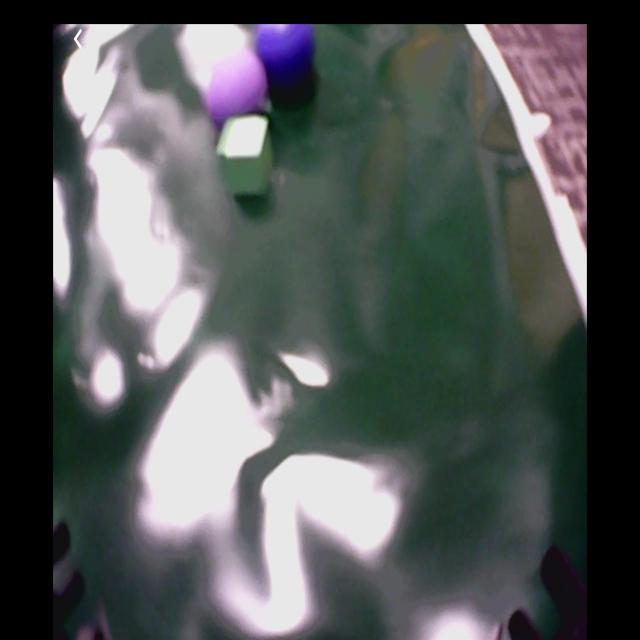ball: (209, 53, 266, 137), (259, 28, 314, 84)
